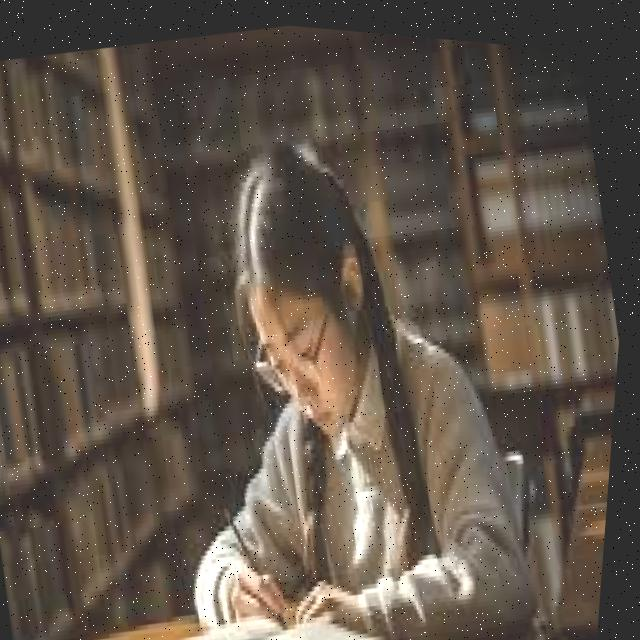studying-person: (0, 59, 593, 640)
